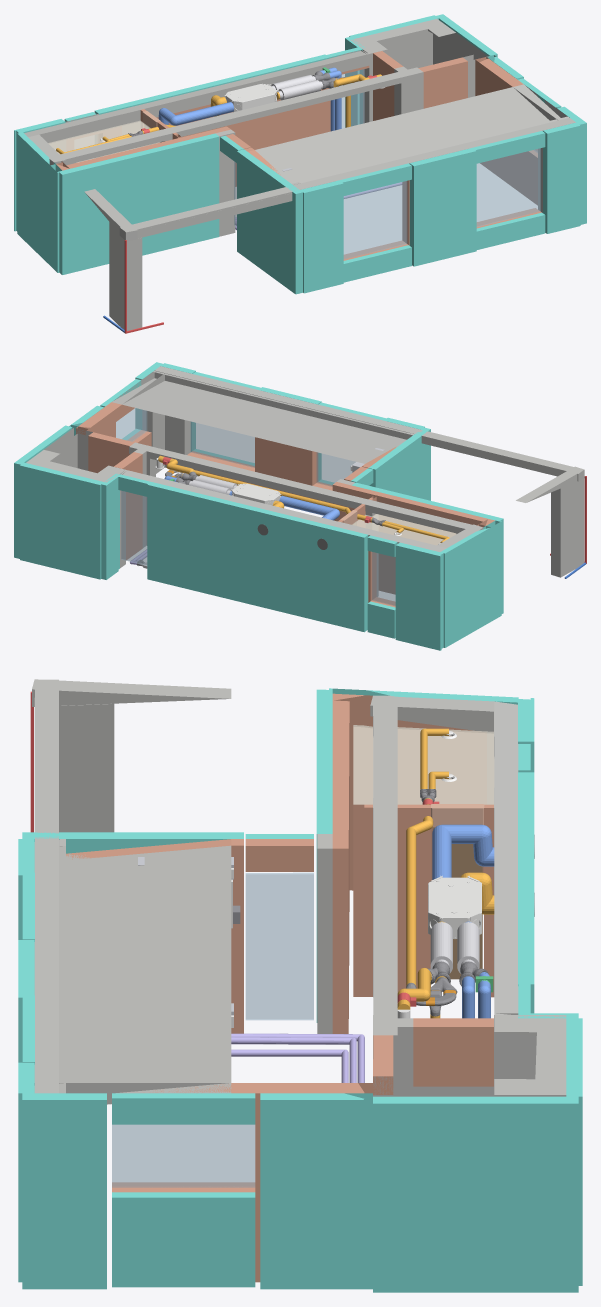
Rendered from House_AR_AT_open.glb.
3 views of the same model, one above another, from view 1: azimuth 30°, elevation 25°; view 2: azimuth 150°, elevation 25°; view 3: azimuth 270°, elevation 25° (orthographic). The views are drawn at different scales.
Visible parts, largest first — view 1: RF-SLAB, AT-ET07, AT-ET10, AT-ET12, AT-ET13, AT-ET06, AT-EO04, AT-EO05, AT-ET09, AT-COL07, AT-BW05, AT-BEAM08 (+31 smaller); view 2: AT-ET11, RF-SLAB, AT-ET03, AT-ET06, AT-ET05, AT-BEAM02, AT-COL03, AT-BEAM08, AT-ET12, AT-BW08, AT-BW01, AT-EO04 (+28 smaller); view 3: RF-SLAB, AT-ET02, AT-ET01, AT-ET08, AT-EO03-SILL-ET, AT-EO06, AT-EO03, AT-CL01, AT-COL03, AT-BEAM02, AT-BW09, AT-BEAM08 (+44 smaller).
Part boxes in pixels (x1,y1,x2,y2): RF-SLAB: [25, 50, 568, 239]; AT-ET07: [57, 133, 219, 274]; AT-ET10: [409, 148, 476, 266]; AT-ET12: [237, 149, 302, 294]; AT-ET13: [300, 181, 343, 293]; AT-ET06: [17, 132, 61, 271]; AT-EO04: [476, 148, 540, 226]; AT-EO05: [343, 181, 407, 259]; AT-ET09: [543, 122, 580, 233]; AT-COL07: [363, 31, 488, 123]; AT-BW05: [156, 88, 330, 186]; AT-BEAM08: [164, 67, 422, 136]; AT-ET11: [147, 482, 368, 632]; RF-SLAB: [112, 371, 575, 551]; AT-ET03: [20, 462, 103, 579]; AT-ET06: [440, 521, 500, 647]; AT-ET05: [395, 542, 445, 650]; AT-BEAM02: [154, 366, 419, 439]; AT-COL03: [551, 478, 584, 577]; AT-BEAM08: [129, 442, 376, 512]; AT-ET12: [369, 427, 430, 500]; AT-BW08: [347, 485, 487, 594]; AT-BW01: [255, 437, 317, 498]; AT-EO04: [190, 421, 254, 467]; RF-SLAB: [34, 691, 518, 1104]; AT-ET02: [373, 1096, 578, 1292]; AT-ET01: [260, 1093, 372, 1289]; AT-ET08: [22, 1093, 106, 1289]; AT-EO03-SILL-ET: [112, 1192, 255, 1287]; AT-EO06: [245, 872, 313, 1020]; AT-EO03: [112, 1124, 255, 1187]; AT-CL01: [353, 725, 494, 804]; AT-COL03: [59, 703, 114, 832]; AT-BEAM02: [35, 839, 58, 1093]; AT-BW09: [397, 720, 486, 880]; AT-BEAM08: [373, 798, 397, 1048].
Size of the model in its own units: 12.49 by 2.59 by 7.
